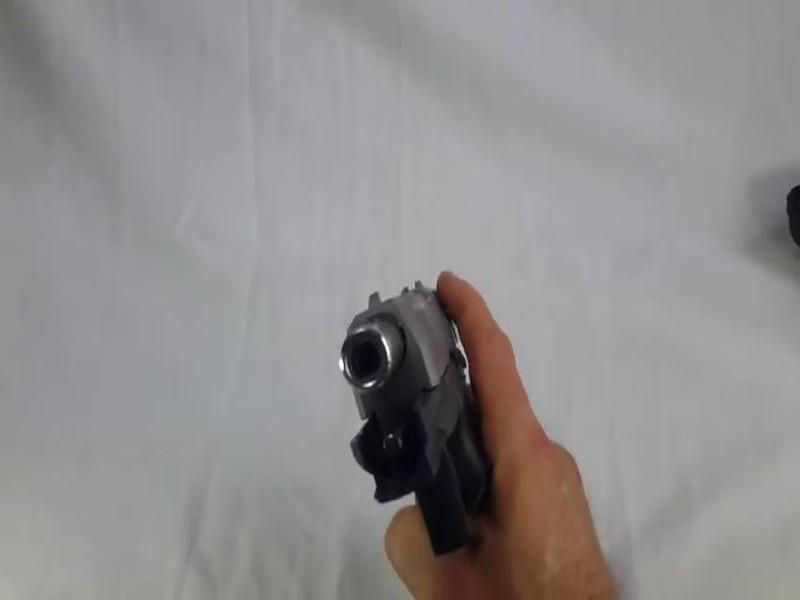Pistola: (313, 253, 539, 566)
